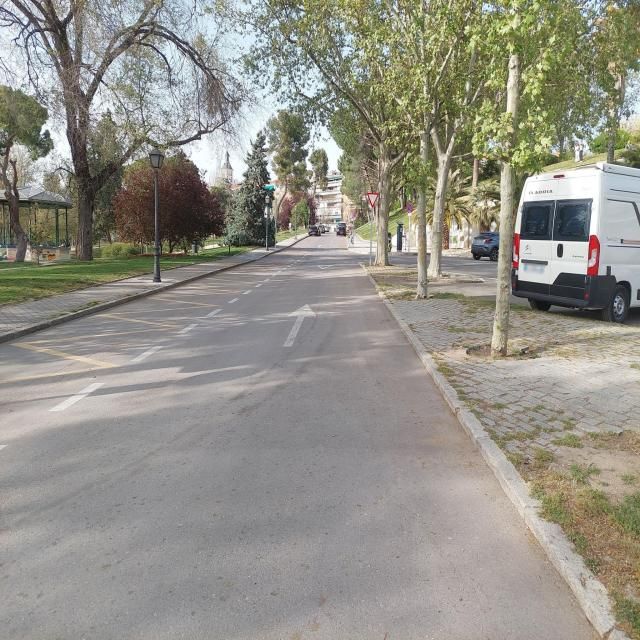forb_stopping: (407, 204, 414, 214)
